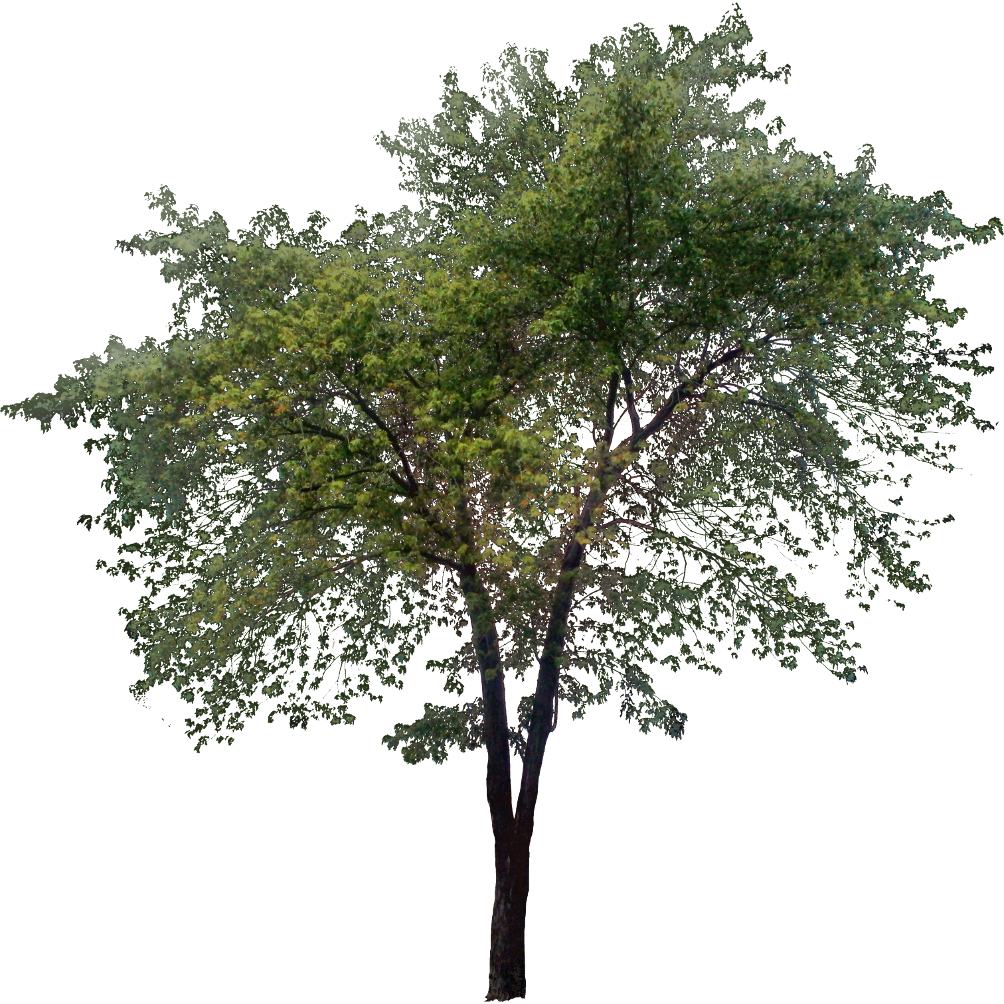tree: (1, 1, 1004, 1002)
